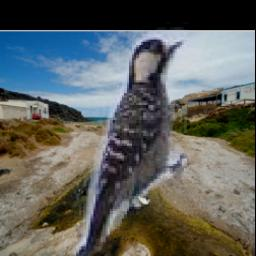Woodpecker: (65, 21, 196, 256)
